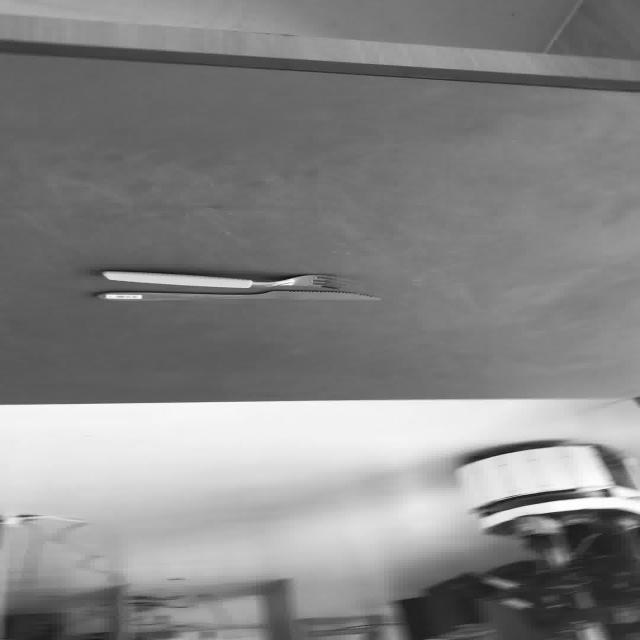fork: (97, 268, 360, 290)
knife fork: (93, 268, 379, 301), (94, 288, 380, 300)
